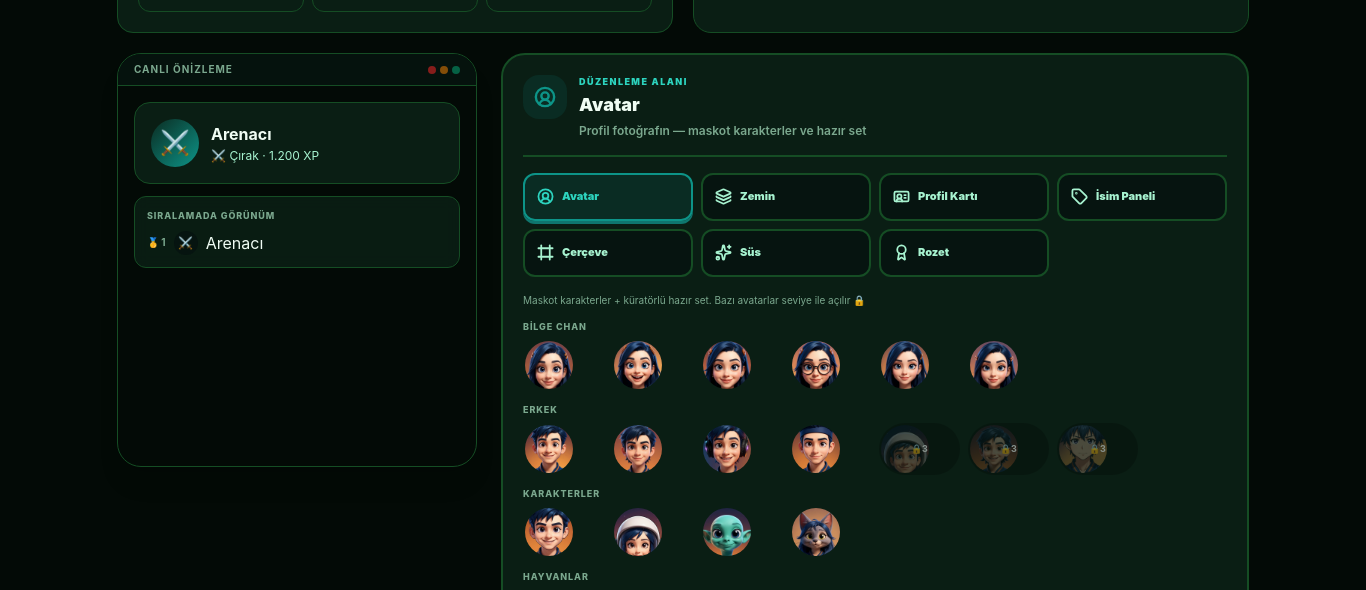
Test: KisisellestirClient › süs alanı: sahip-olunmayan ücretli süs kilitli, sahip olunan takılabilir
(page scrolled)
Click the button "Süs": (786, 252) x1=701 y1=228 x2=871 y2=276
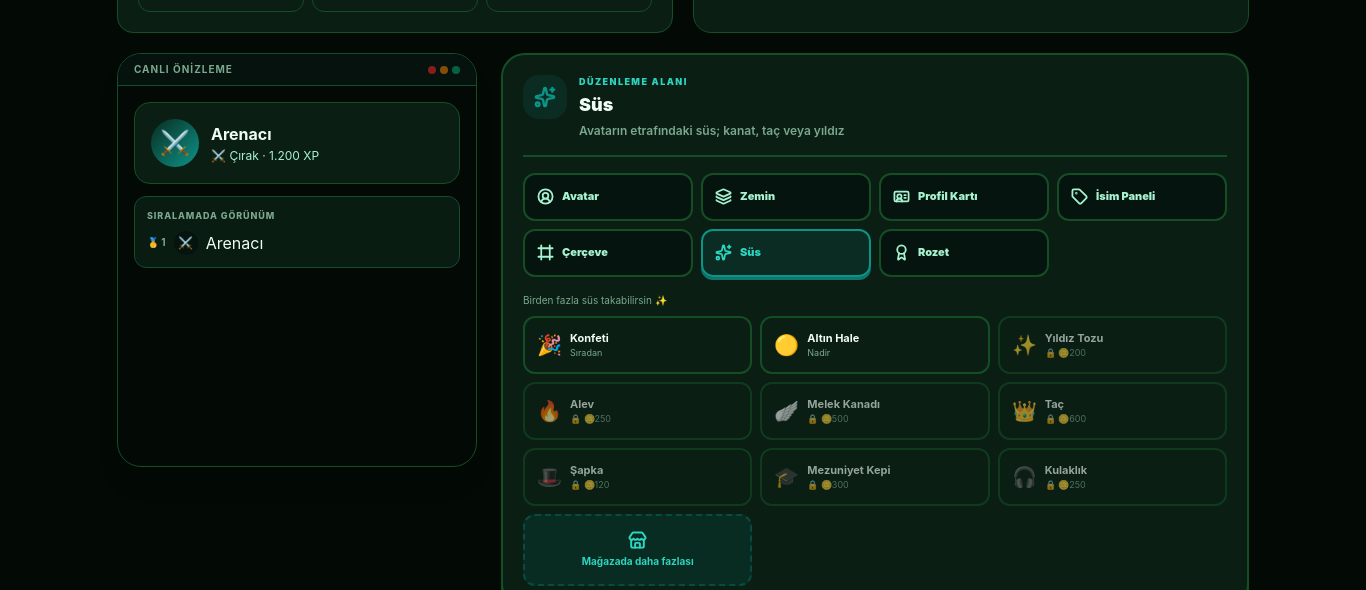
Check: the button "👑 Taç 🔒 🪙600" is disabled, box x1=998 y1=382 x2=1227 y2=440
Check: the button "🟡 Altın Hale Nadir" is enabled, box x1=760 y1=316 x2=990 y2=374
